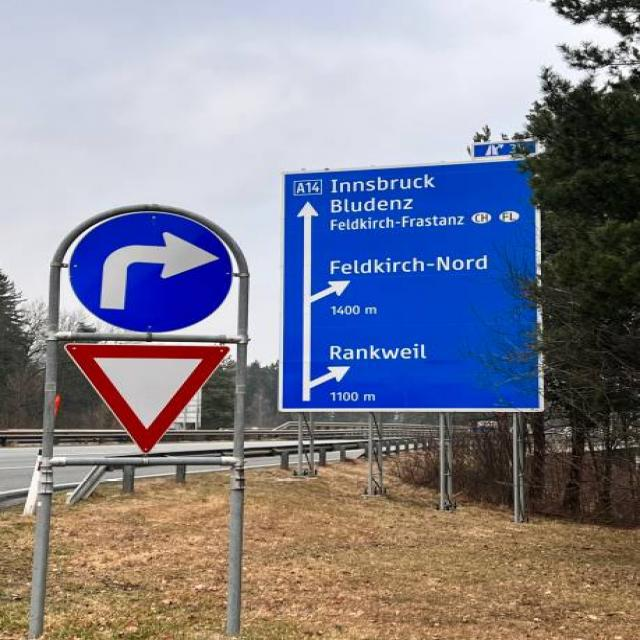give_way: (42, 329, 248, 462)
